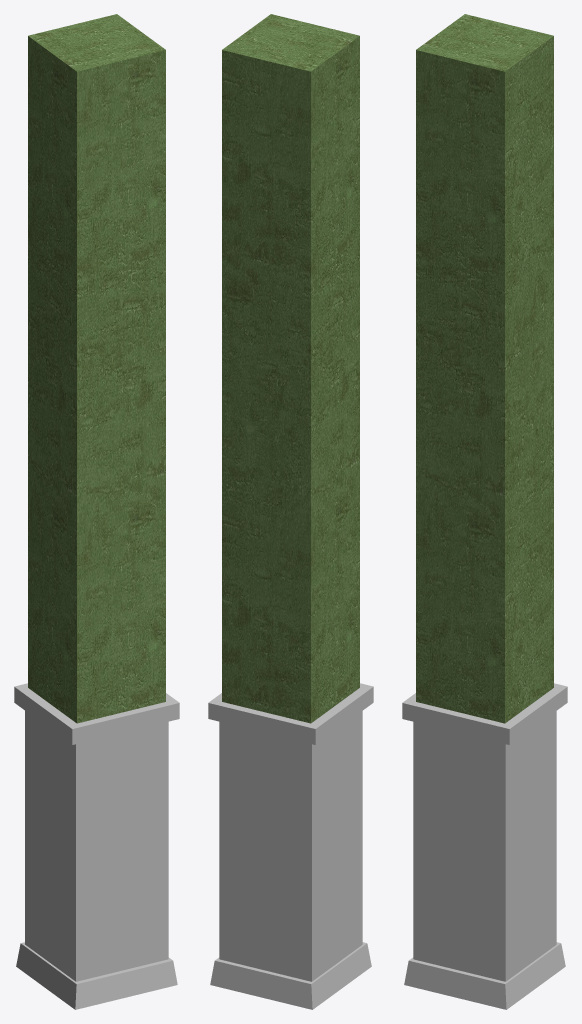
The model's file is OfficeColumn02.fbx.
3 views of the same model, side by side, from view 1: azimuth 30°, elevation 25°; view 2: azimuth 150°, elevation 25°; view 3: azimuth 330°, elevation 25° (orthographic).
Visible parts, largest first — view 1: Cube.007; view 2: Cube.007; view 3: Cube.007.
Boxes of the visible parts, x1,y1,x2,y2 form: Cube.007: (14, 14, 179, 1009); Cube.007: (208, 14, 373, 1009); Cube.007: (402, 14, 567, 1009).
Bounding box in the file's own units: 121 × 1000 × 115.
